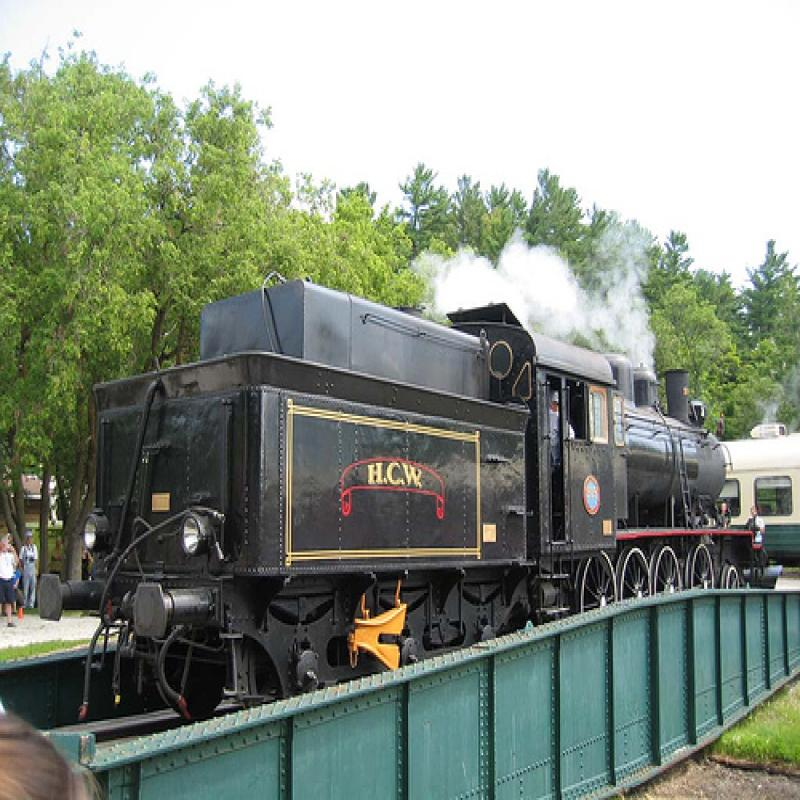train: (36, 279, 780, 727)
